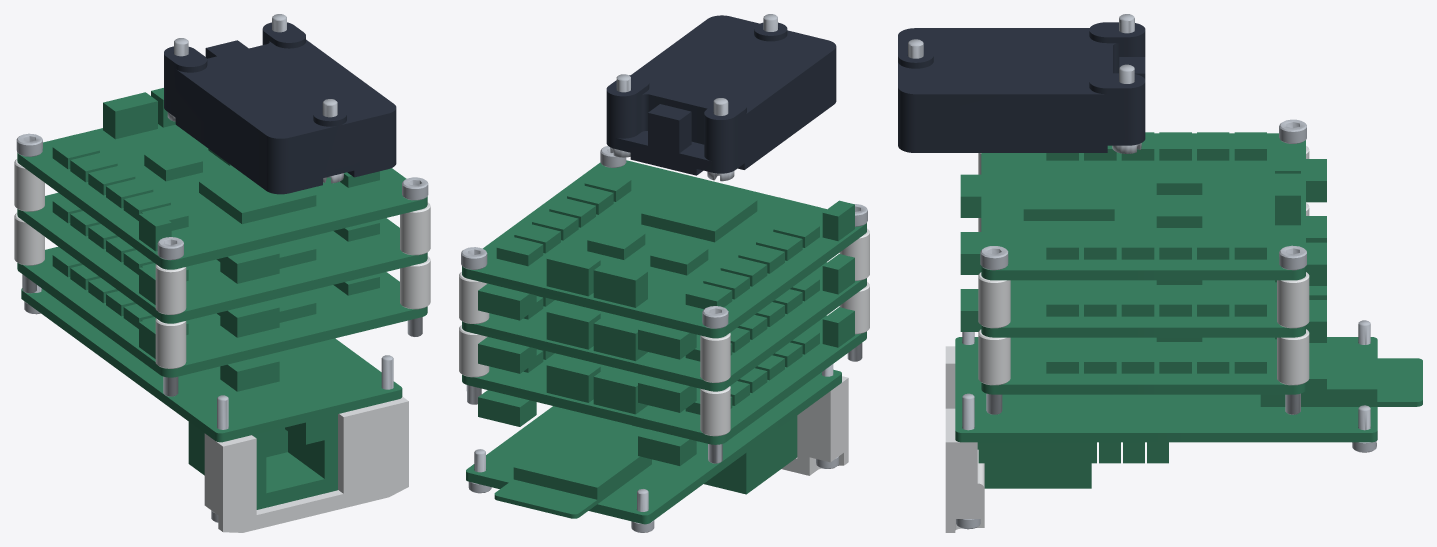
The model's file is electronics_LOD0.fbx.
The picture shows the model from 3 angles, left to right: view 1: azimuth 30°, elevation 25°; view 2: azimuth 150°, elevation 25°; view 3: azimuth 270°, elevation 25°; orthographic projection. The views are drawn at different scales.
Visible parts, largest first — view 1: MM_bolt_micro_driver_90_deg_hirose_f255959cc1, MM_bolt_imu_3dm_cx5_25_5539e1861e, MM_bolt_master_board_87b6154cba, MM_bolt_micro_driver_90_deg_hirose_7063fcfa41, MM_bolt_micro_driver_90_deg_hirose_e89465704e, MM_bolt_body_structure_master_board_protecti_cf48564e60, MM_bolt_spacer_micro_driver_stack_87ac18bcf2, MM_bolt_spacer_micro_driver_stack_ec4e22e28a, MM_bolt_spacer_micro_driver_stack_338b744e6a, MM_bolt_spacer_micro_driver_stack_b32b14f138, MM_bolt_spacer_micro_driver_stack_9e4a3634f3, MM_bolt_spacer_micro_driver_stack_130f892427 (+3 smaller); view 2: MM_bolt_micro_driver_90_deg_hirose_f255959cc1, MM_bolt_imu_3dm_cx5_25_5539e1861e, MM_bolt_master_board_87b6154cba, MM_bolt_micro_driver_90_deg_hirose_7063fcfa41, MM_bolt_micro_driver_90_deg_hirose_e89465704e, MM_bolt_body_structure_master_board_protecti_cf48564e60, MM_bolt_spacer_micro_driver_stack_9e4a3634f3, MM_bolt_spacer_micro_driver_stack_130f892427, MM_bolt_spacer_micro_driver_stack_40b55730b8, MM_bolt_spacer_micro_driver_stack_647ca68f93, MM_bolt_fastener_shcs_m2_5_25_a9f6a9c5ae, MM_bolt_spacer_micro_driver_stack_87ac18bcf2 (+4 smaller); view 3: MM_bolt_micro_driver_90_deg_hirose_f255959cc1, MM_bolt_master_board_87b6154cba, MM_bolt_imu_3dm_cx5_25_5539e1861e, MM_bolt_micro_driver_90_deg_hirose_e89465704e, MM_bolt_micro_driver_90_deg_hirose_7063fcfa41, MM_bolt_body_structure_master_board_protecti_cf48564e60, MM_bolt_spacer_micro_driver_stack_338b744e6a, MM_bolt_spacer_micro_driver_stack_40b55730b8, MM_bolt_spacer_micro_driver_stack_647ca68f93, MM_bolt_spacer_micro_driver_stack_b32b14f138, MM_bolt_fastener_shcs_m2_5_25_f3839ad9d6, MM_bolt_fastener_shcs_m2_5_25_f66416165f (+2 smaller).
Boxes of the visible parts, x1,y1,x2,y2 form: MM_bolt_micro_driver_90_deg_hirose_f255959cc1: (17, 88, 427, 283); MM_bolt_imu_3dm_cx5_25_5539e1861e: (164, 22, 396, 194); MM_bolt_master_board_87b6154cba: (21, 288, 402, 509); MM_bolt_micro_driver_90_deg_hirose_7063fcfa41: (17, 246, 427, 391); MM_bolt_micro_driver_90_deg_hirose_e89465704e: (17, 192, 427, 337); MM_bolt_body_structure_master_board_protecti_cf48564e60: (204, 396, 408, 532); MM_bolt_spacer_micro_driver_stack_87ac18bcf2: (155, 264, 186, 314); MM_bolt_spacer_micro_driver_stack_ec4e22e28a: (155, 318, 186, 368); MM_bolt_spacer_micro_driver_stack_338b744e6a: (400, 256, 430, 309); MM_bolt_spacer_micro_driver_stack_b32b14f138: (400, 202, 430, 255); MM_bolt_spacer_micro_driver_stack_9e4a3634f3: (14, 213, 44, 265); MM_bolt_spacer_micro_driver_stack_130f892427: (14, 159, 44, 211); MM_bolt_micro_driver_90_deg_hirose_f255959cc1: (462, 160, 866, 359); MM_bolt_imu_3dm_cx5_25_5539e1861e: (606, 15, 836, 175); MM_bolt_master_board_87b6154cba: (466, 369, 841, 524); MM_bolt_micro_driver_90_deg_hirose_7063fcfa41: (462, 307, 866, 465); MM_bolt_micro_driver_90_deg_hirose_e89465704e: (462, 254, 866, 412); MM_bolt_body_structure_master_board_protecti_cf48564e60: (782, 376, 848, 475); MM_bolt_spacer_micro_driver_stack_9e4a3634f3: (700, 386, 730, 436); MM_bolt_spacer_micro_driver_stack_130f892427: (700, 333, 730, 382); MM_bolt_spacer_micro_driver_stack_40b55730b8: (459, 325, 489, 377); MM_bolt_spacer_micro_driver_stack_647ca68f93: (459, 272, 489, 323); MM_bolt_fastener_shcs_m2_5_25_a9f6a9c5ae: (702, 306, 728, 463); MM_bolt_spacer_micro_driver_stack_87ac18bcf2: (839, 228, 869, 280); MM_bolt_micro_driver_90_deg_hirose_f255959cc1: (960, 132, 1326, 285); MM_bolt_master_board_87b6154cba: (955, 337, 1422, 488); MM_bolt_imu_3dm_cx5_25_5539e1861e: (898, 22, 1145, 152); MM_bolt_micro_driver_90_deg_hirose_e89465704e: (960, 216, 1326, 342); MM_bolt_micro_driver_90_deg_hirose_7063fcfa41: (960, 286, 1326, 399); MM_bolt_body_structure_master_board_protecti_cf48564e60: (945, 346, 984, 532); MM_bolt_spacer_micro_driver_stack_338b744e6a: (978, 329, 1010, 385); MM_bolt_spacer_micro_driver_stack_40b55730b8: (1277, 329, 1309, 385); MM_bolt_spacer_micro_driver_stack_647ca68f93: (1277, 272, 1309, 328); MM_bolt_spacer_micro_driver_stack_b32b14f138: (978, 272, 1010, 328); MM_bolt_fastener_shcs_m2_5_25_f3839ad9d6: (980, 246, 1008, 414); MM_bolt_fastener_shcs_m2_5_25_f66416165f: (1279, 245, 1306, 414).
Bounding box in the file's own units: 0.051 × 0.0763 × 0.0808.
